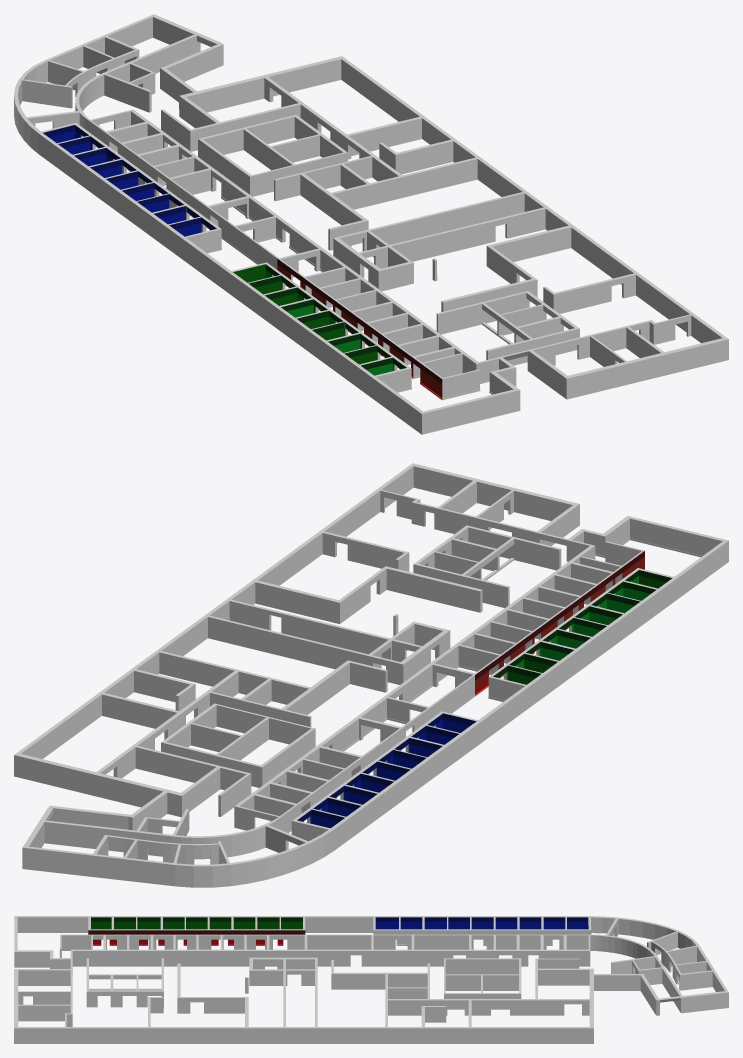
Rendered from Labaratorium6.fbx.
3 renders of one model, top to bottom at view 1: azimuth 30°, elevation 25°; view 2: azimuth 150°, elevation 25°; view 3: azimuth 270°, elevation 25°, orthographic. The views are drawn at different scales.
Visible parts, largest first — view 1: labLevel4; view 2: labLevel4; view 3: labLevel4.
Part boxes in pixels (x1=…): labLevel4: x1=14, y1=14, x2=728, y2=434; labLevel4: x1=14, y1=463, x2=728, y2=887; labLevel4: x1=14, y1=916, x2=728, y2=1043.
Bounding box in the file's own units: 53.84 × 3.56 × 145.
